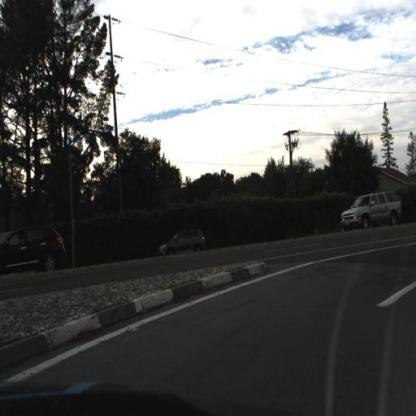car: (0, 224, 67, 275), (339, 187, 404, 234), (154, 227, 208, 259)
